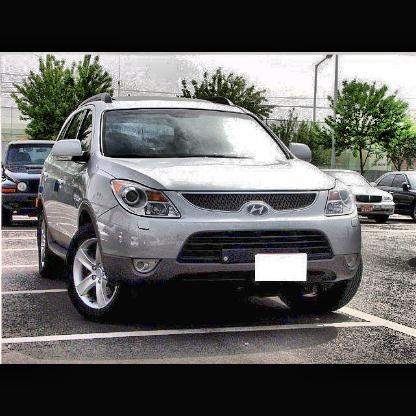Hyundai Veracruz SUV 2012: (37, 94, 366, 317)
